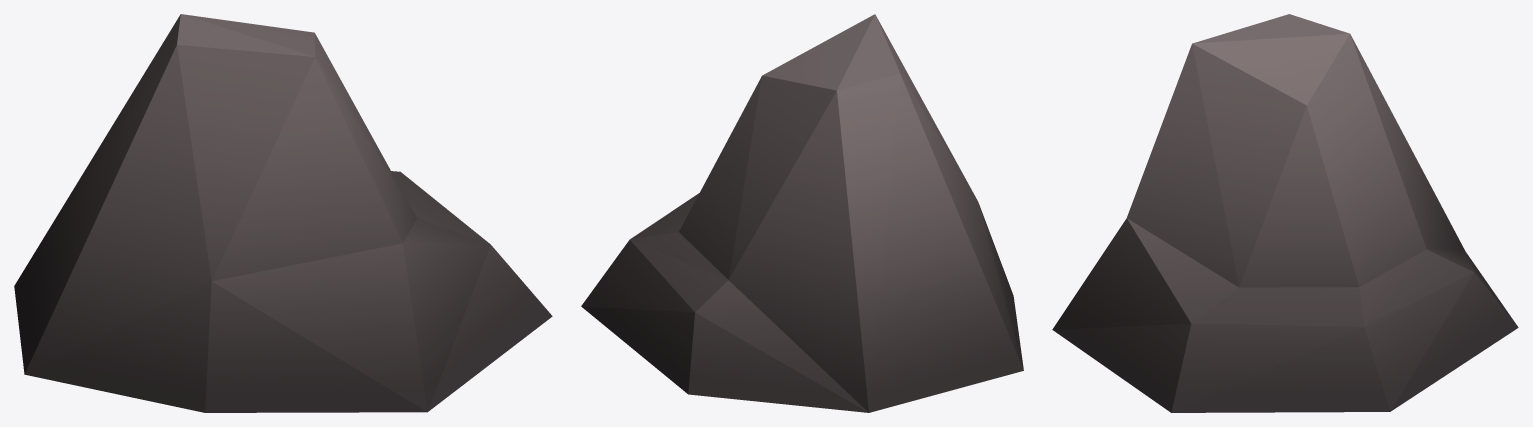
The model's file is SM_Rock_base_5.fbx.
The picture shows the model from 3 angles, left to right: view 1: azimuth 30°, elevation 25°; view 2: azimuth 150°, elevation 25°; view 3: azimuth 270°, elevation 25°; orthographic projection. The views are drawn at different scales.
Visible parts, largest first — view 1: Rock_base_5; view 2: Rock_base_5; view 3: Rock_base_5.
Part boxes in pixels (x1=…): Rock_base_5: x1=14, y1=14, x2=552, y2=412; Rock_base_5: x1=581, y1=14, x2=1023, y2=412; Rock_base_5: x1=1052, y1=14, x2=1518, y2=412.
Size of the model in its own units: 349 by 223 by 348.
Materials: 1 (1 with a texture image).
